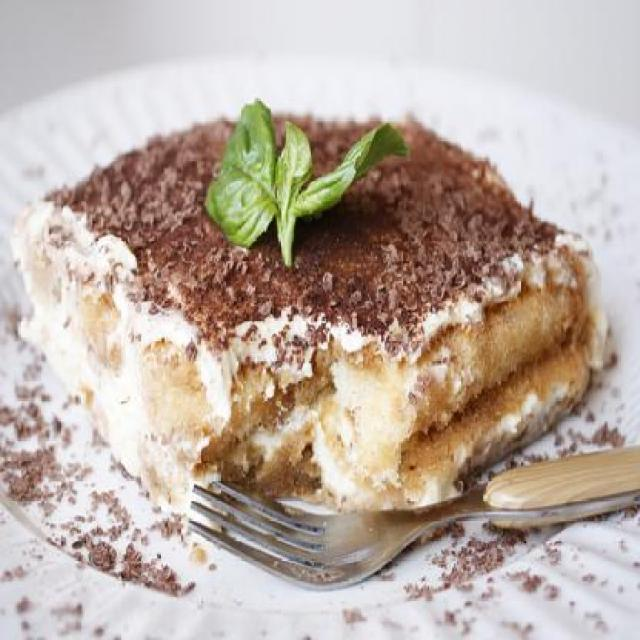Tiramisu: (26, 86, 598, 522)
